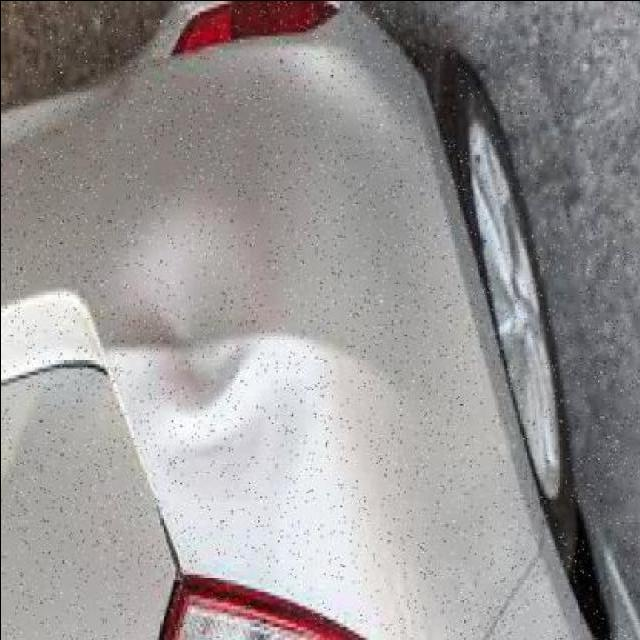rear-bumper-dent: (2, 0, 484, 457)
